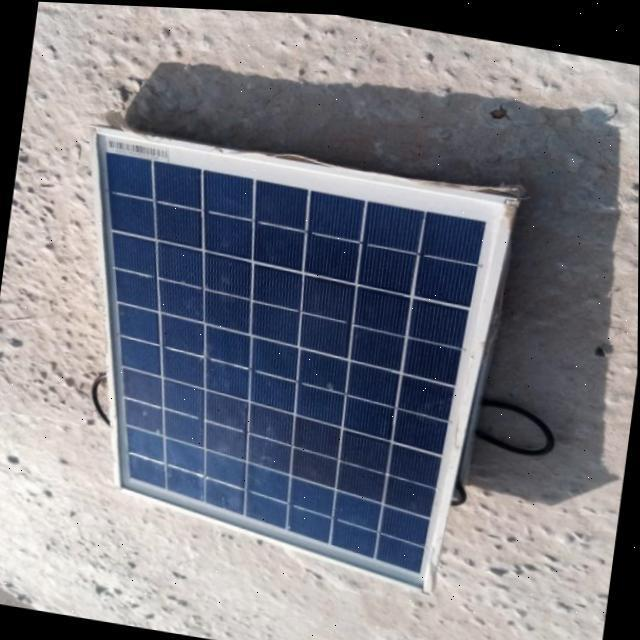Normal Solar Panel: (39, 124, 514, 596)
